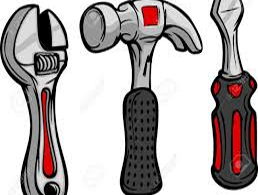Wrench: (1, 3, 79, 195)
